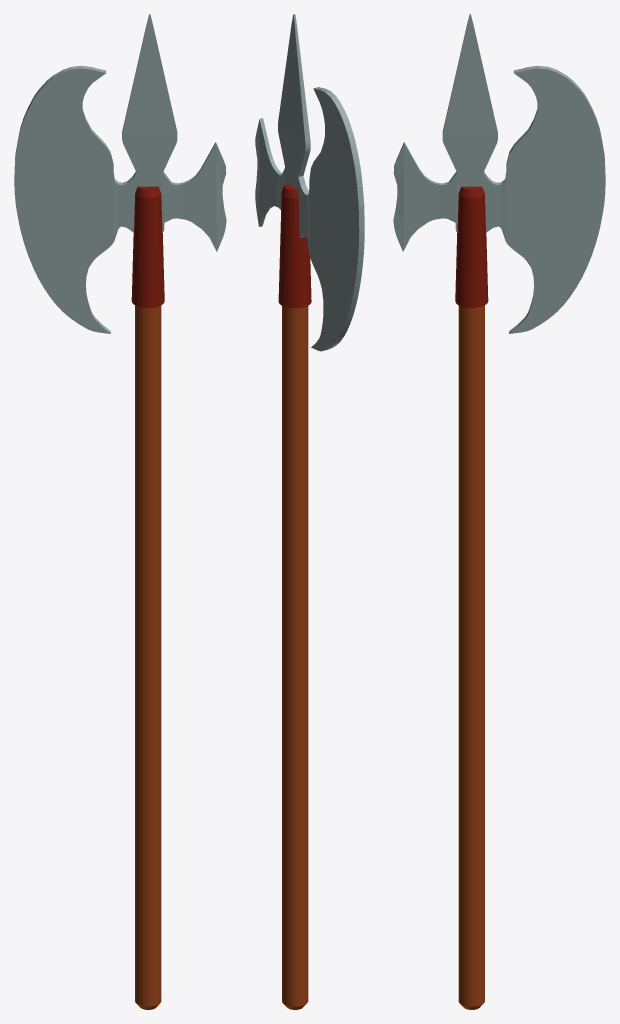
The model's file is lanza.fbx.
The picture shows the model from 3 angles, left to right: view 1: azimuth 90°, elevation 25°; view 2: azimuth 210°, elevation 25°; view 3: azimuth 270°, elevation 25°; orthographic projection.
Visible parts, largest first — view 1: lanza; view 2: lanza; view 3: lanza.
Part boxes in pixels (left/top/right/bottom): lanza: left=14, top=14, right=226, bottom=1009; lanza: left=255, top=14, right=364, bottom=1009; lanza: left=393, top=14, right=605, bottom=1009.
Size of the model in its own units: 10.55 by 350 by 67.84.
